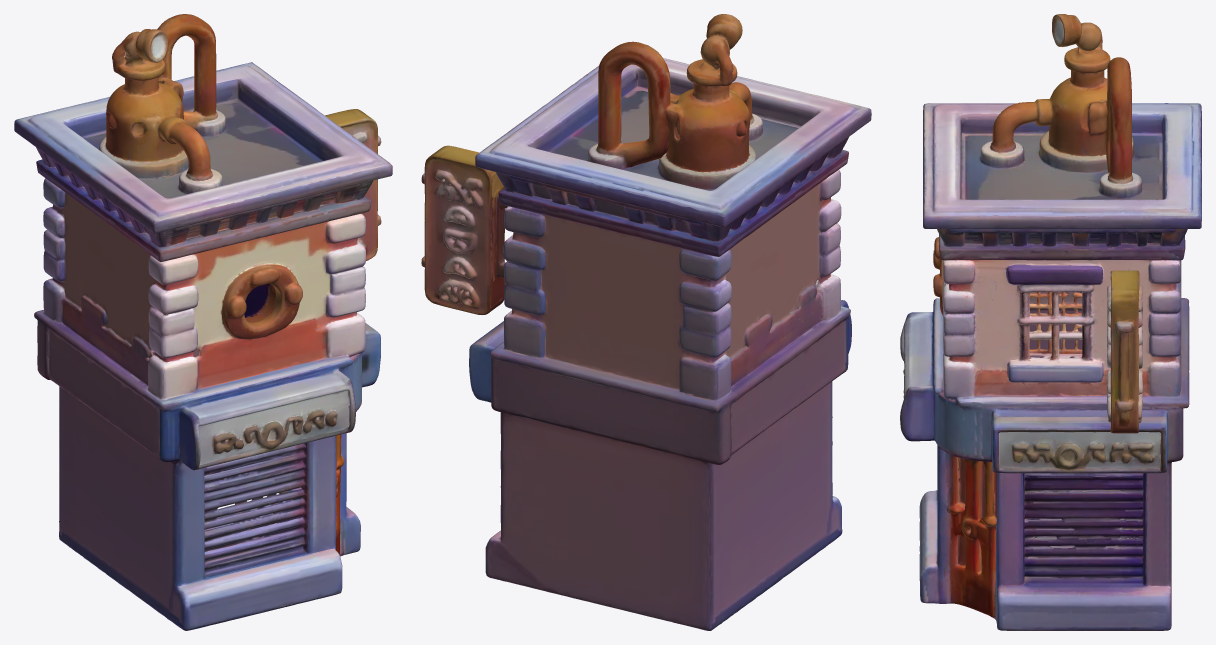
File: tools_shop.glb
The picture shows the model from 3 angles, left to right: view 1: azimuth 30°, elevation 25°; view 2: azimuth 150°, elevation 25°; view 3: azimuth 270°, elevation 25°; orthographic projection. The views are drawn at different scales.
Size of the model in its own units: 0.6363 by 1 by 0.5156.
1 material, 1 textured.
